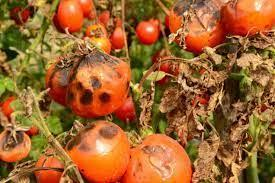tomato early blight: (46, 35, 135, 122), (65, 122, 132, 179), (131, 135, 195, 183)
